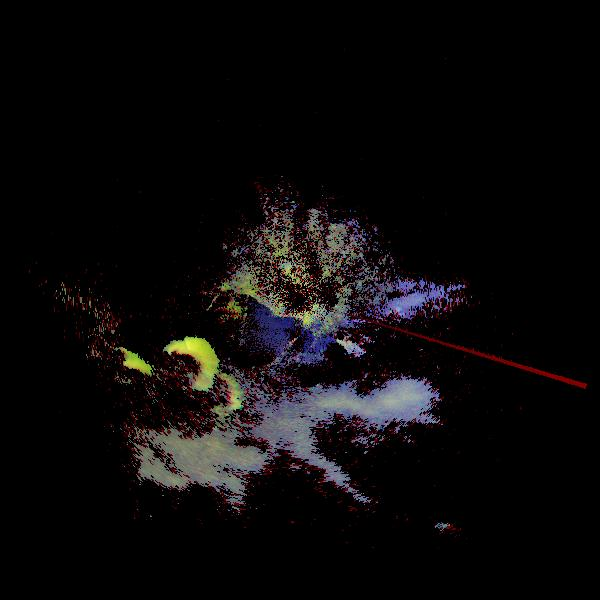roost: (142, 321, 232, 411), (168, 355, 255, 442), (79, 333, 163, 417)
